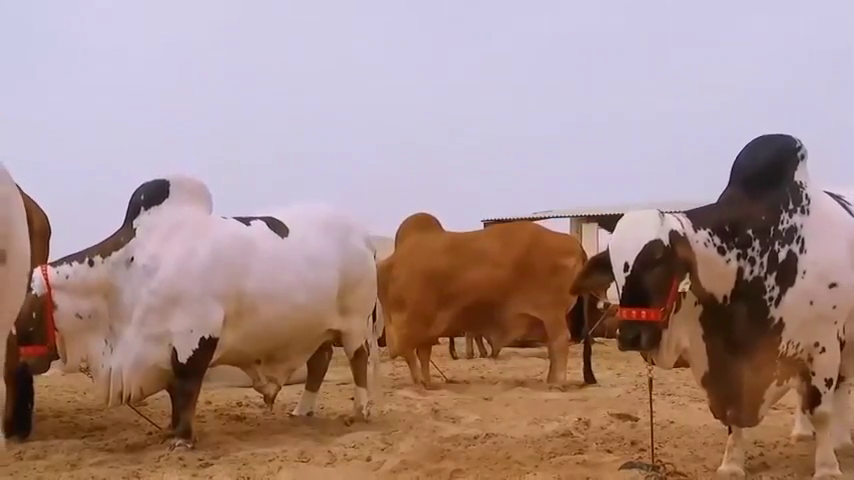bo: (14, 161, 382, 456), (567, 126, 850, 479), (359, 205, 598, 395)
